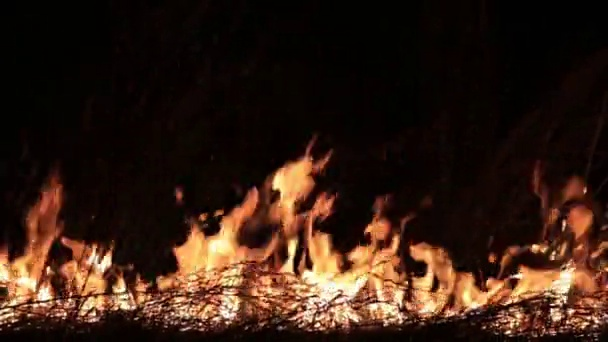fire: (162, 160, 608, 329), (1, 193, 131, 320)
